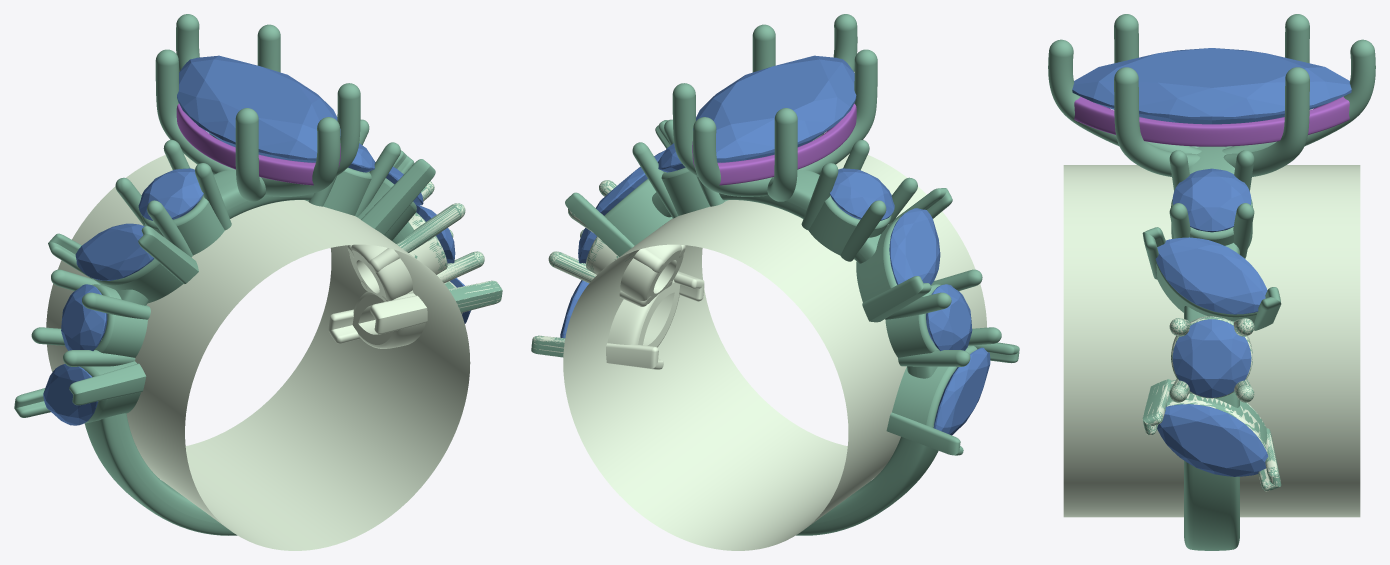
3 views of the same model, side by side, from view 1: azimuth 30°, elevation 25°; view 2: azimuth 150°, elevation 25°; view 3: azimuth 270°, elevation 25° (orthographic). The views are drawn at different scales.
Parts seen in each view (by area): view 1: ANILLO MATRIMONIO MARQUESE 2CT BANDA REDONDO Y MARQUESE.3dm, Gem (×6); view 2: ANILLO MATRIMONIO MARQUESE 2CT BANDA REDONDO Y MARQUESE.3dm, Gem (×6); view 3: ANILLO MATRIMONIO MARQUESE 2CT BANDA REDONDO Y MARQUESE.3dm, Gem (×5).
Part boxes in pixels (x1,y1,x2,y2): ANILLO MATRIMONIO MARQUESE 2CT BANDA REDONDO Y MARQUESE.3dm: [14, 14, 502, 550]; Gem (×6): [43, 55, 455, 425]; ANILLO MATRIMONIO MARQUESE 2CT BANDA REDONDO Y MARQUESE.3dm: [531, 14, 1019, 550]; Gem (×6): [596, 55, 990, 435]; ANILLO MATRIMONIO MARQUESE 2CT BANDA REDONDO Y MARQUESE.3dm: [1048, 14, 1375, 550]; Gem (×5): [1072, 48, 1351, 476].
Bounding box in the file's own units: 2.56 × 2.63 × 1.59.
